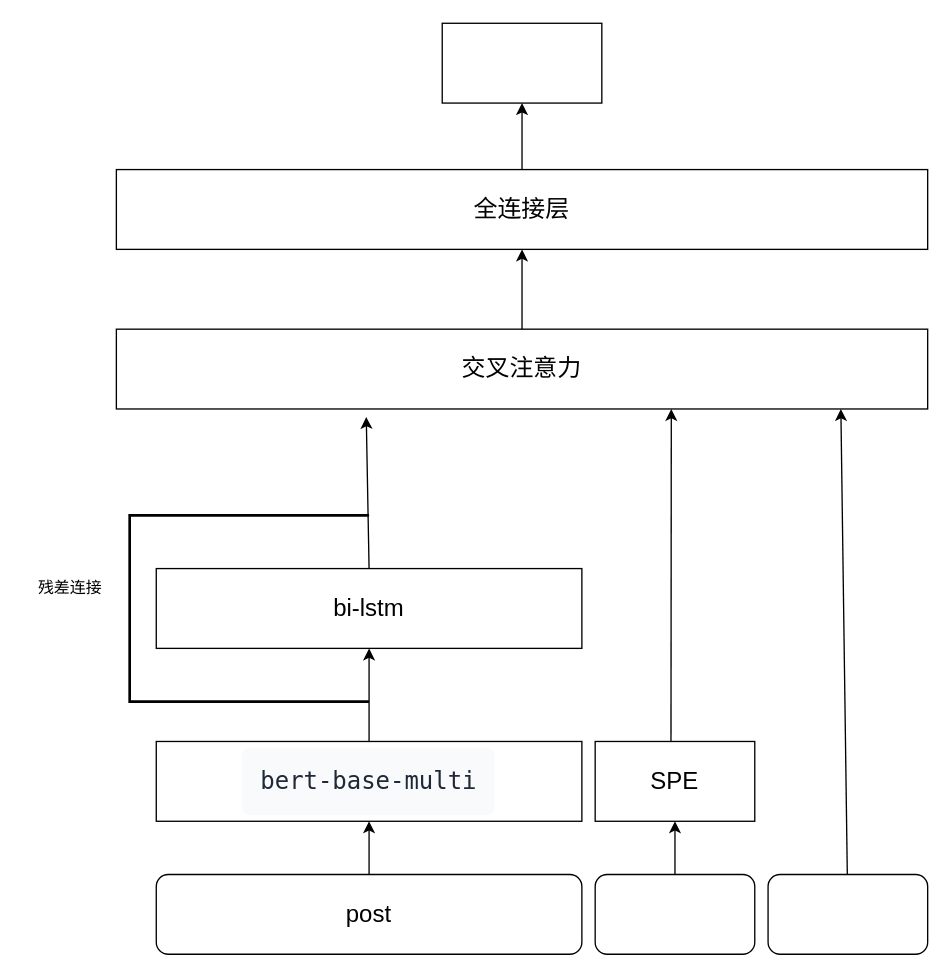
This 951x978 diagram has some shape labels left out. Each missing label, with the box of its shape:
dian, zuan, ping: (767, 873, 928, 954)
time: (594, 873, 755, 954)
输出结果: (441, 22, 602, 103)
